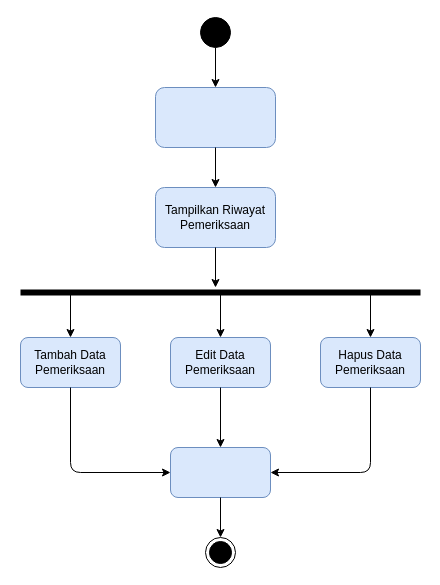
Some shapes in this 440 by 585 pixel diagram are drawn without their labels. The centre of each missing label's shape, as x and y in pixels:
Pilih Menu Pemeriksaan Ibu: (x=215, y=117)
Update Database: (x=220, y=472)
